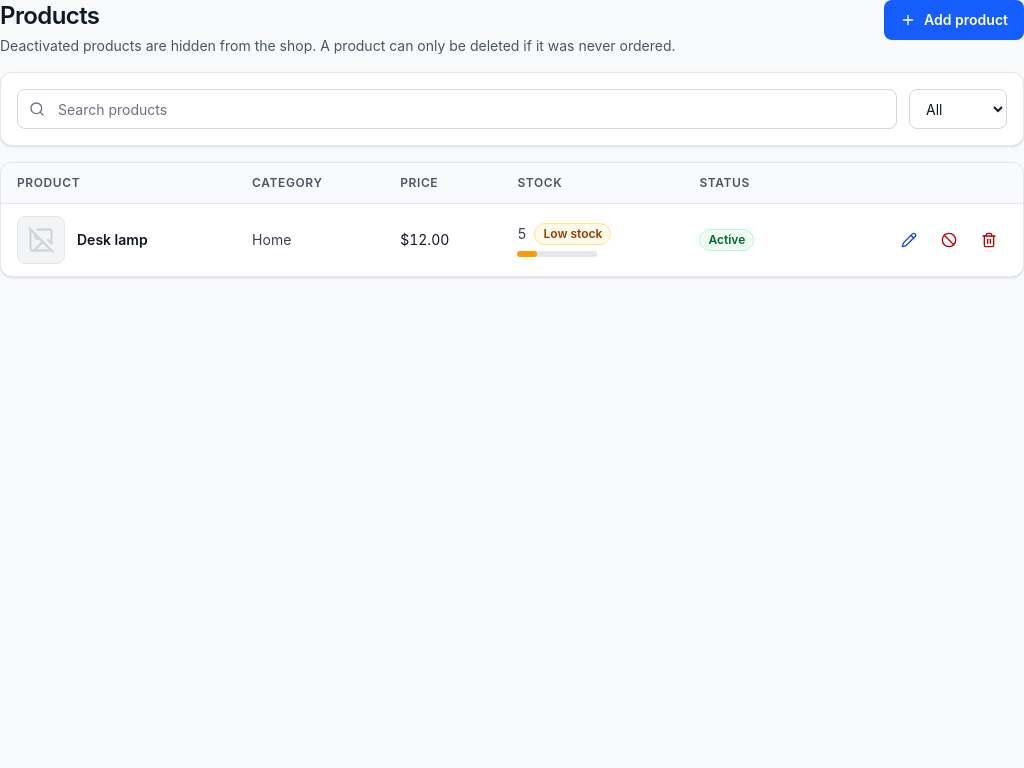
it: Delete a product › asks first, in a red dialog that says it cannot be undone
The image size is (1024, 768).
What coordinates should you click on to do the following:
click the button named "Delete Desk lamp"
I would click on:
 (989, 240)
Its box is [971, 222, 1007, 258].
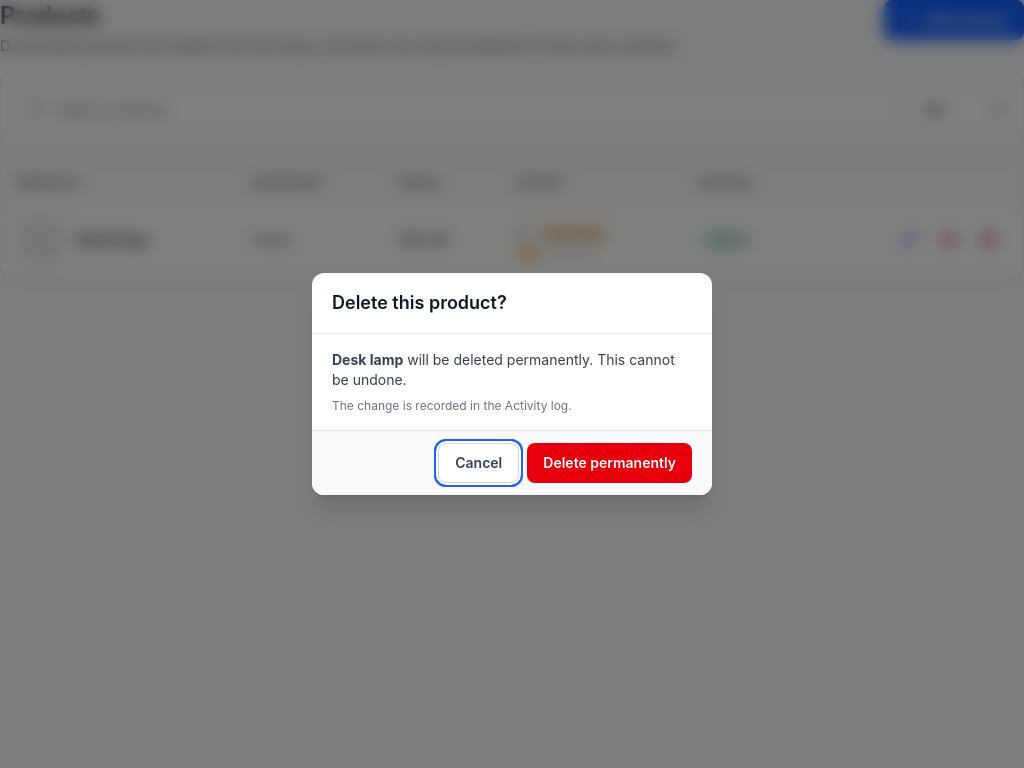
Expected: the dialog shows "This cannot be undone.", [332, 351, 675, 388]
Expected: the dialog shows "recorded in the Activity log", [332, 398, 572, 413]
